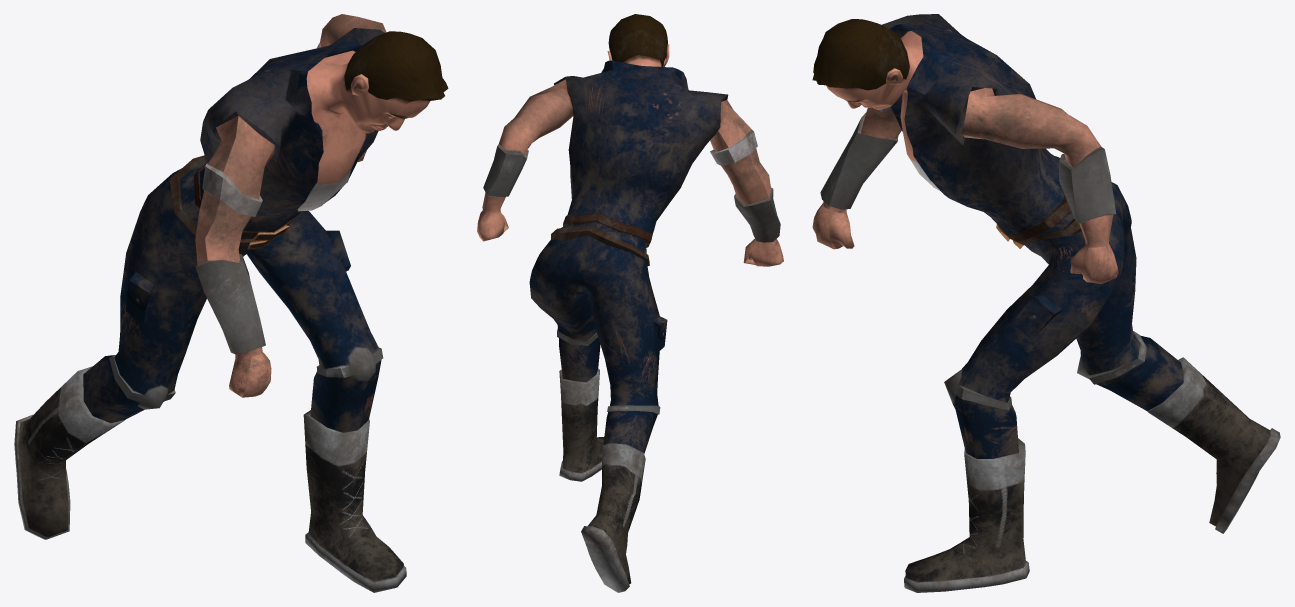
The model's file is Anim_especial_jugador.0034.obj.
3 renders of one model, left to right at view 1: azimuth 30°, elevation 25°; view 2: azimuth 150°, elevation 25°; view 3: azimuth 270°, elevation 25°, orthographic. The views are drawn at different scales.
Visible parts, largest first — view 1: polySurface1; view 2: polySurface1; view 3: polySurface1.
Boxes of the visible parts, x1=… form: polySurface1: x1=14, y1=14, x2=448, y2=592; polySurface1: x1=477, y1=14, x2=783, y2=592; polySurface1: x1=812, y1=14, x2=1280, y2=592.
Size of the model in its own units: 4 by 8.19 by 5.94.
